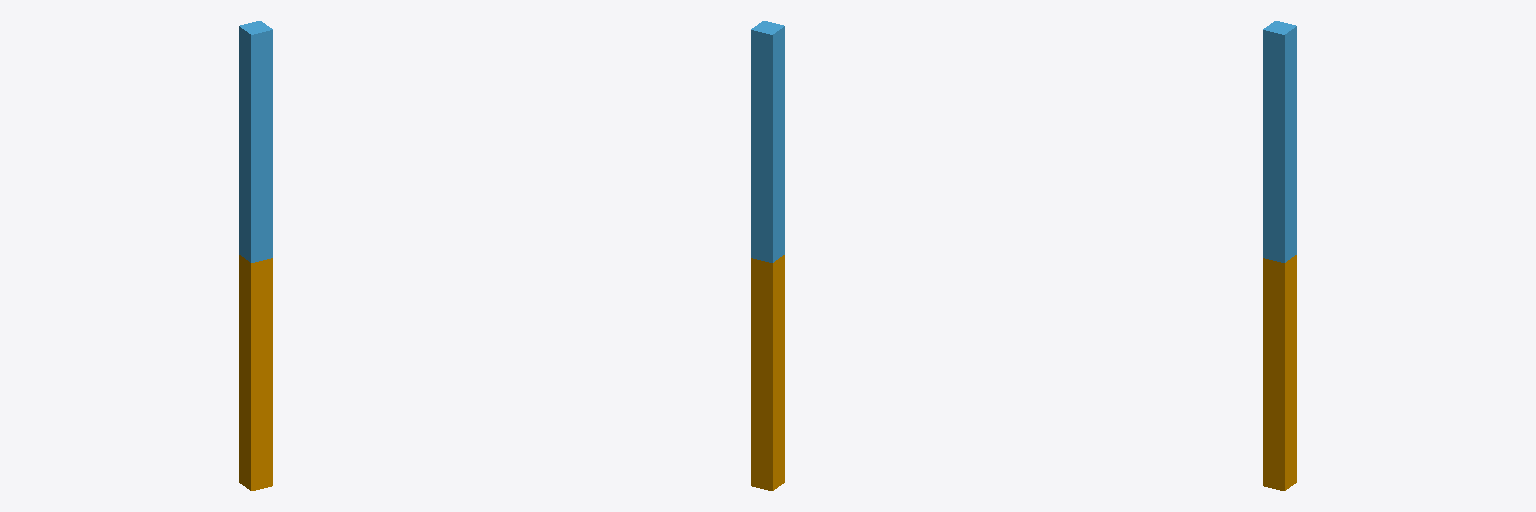
URDF robot description (simple):
<?xml version="1.0" encoding="utf-8"?>
<!-- =================================================================================== -->
<!-- |    This document was autogenerated by xacro from simple_robot-v2.urdf.xacro     | -->
<!-- |    EDITING THIS FILE BY HAND IS NOT RECOMMENDED                                 | -->
<!-- =================================================================================== -->
<robot name="simple">
  <!-- instead of repeating same code for different links, we can reuse the code like above -->
  <link name="world">
    <visual>
      <origin rpy="0 0 0" xyz="0 0 0.5"/>
      <geometry>
        <box size="0.1 0.1 1"/>
      </geometry>
    </visual>
  </link>
  <link name="tool">
    <visual>
      <origin rpy="0 0 0" xyz="0 0 0.5"/>
      <geometry>
        <box size="0.1 0.1 1"/>
      </geometry>
    </visual>
  </link>
  <joint name="q1" type="revolute">
    <origin rpy=" 0 0 0" xyz="0 0 1"/>
    <parent link="world"/>
    <child link="tool"/>
    <axis xyz="0 0 1"/>
    <limit effort="1" lower="-1" upper="1" velocity="1"/>
  </joint>
</robot>

--- Render facts (derived) ---
The picture shows the robot from 3 angles, left to right: view 1: azimuth 30°, elevation 25°; view 2: azimuth 150°, elevation 25°; view 3: azimuth 330°, elevation 25°; orthographic projection.
Model simple with 2 links and 1 joints (1 revolute), rooted at world, posed all joints at 0.
Visible links, largest first — view 1: tool, world; view 2: tool, world; view 3: tool, world.
Boxes of the visible links, x1,y1,x2,y2 form: tool: [239, 21, 272, 262]; world: [239, 255, 272, 490]; tool: [751, 21, 784, 262]; world: [751, 255, 784, 490]; tool: [1263, 21, 1296, 262]; world: [1263, 255, 1296, 490].
Size in the robot's own frame: 0.1 by 0.1 by 2 metres.
Geometry: primitives only (box / cylinder / sphere), no mesh files.